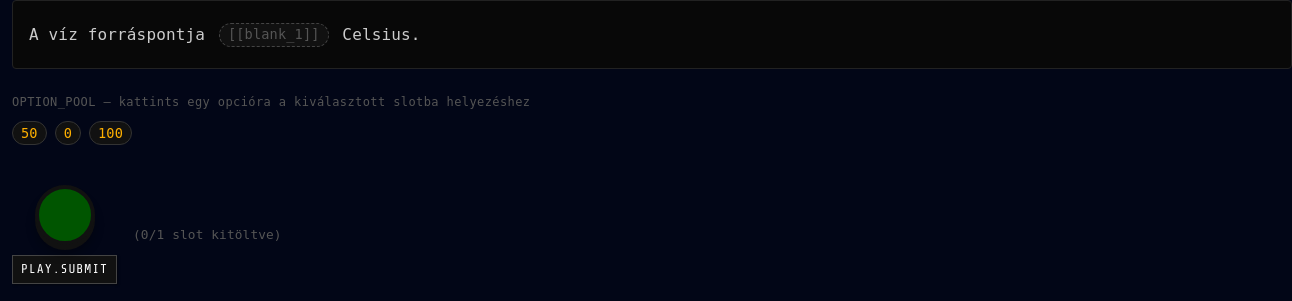
FillInBlankView › passed: true submit → 'Következő' gomb jelenik meg
This screenshot has width=1292, height=301.
Check: the text "100" is shown, box [98,125,123,141]
Note: Töltjük a slotot
Click the button "100" at (110, 133), box [89,121,132,145]
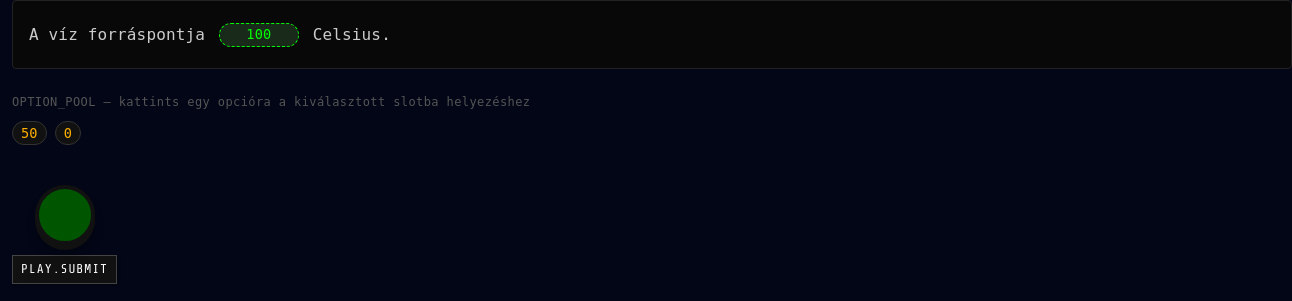
Click the 4th button at (64, 215), box [34,185,94,245]
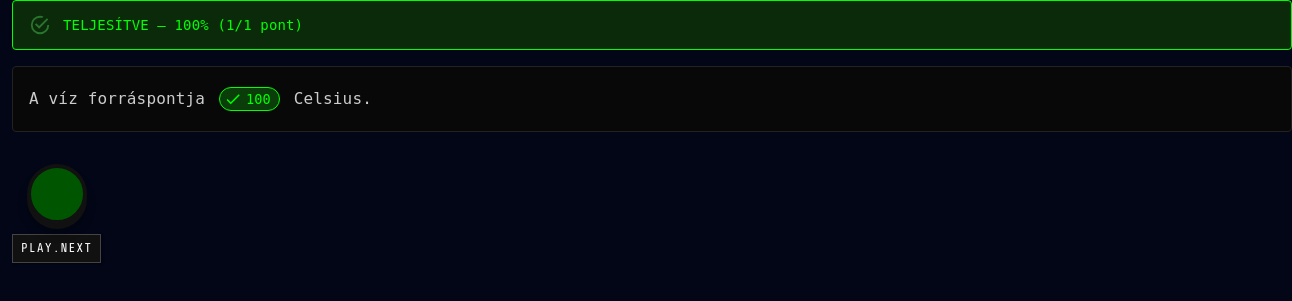
Check: the text "play.next" is shown, box [12,234,101,263]
